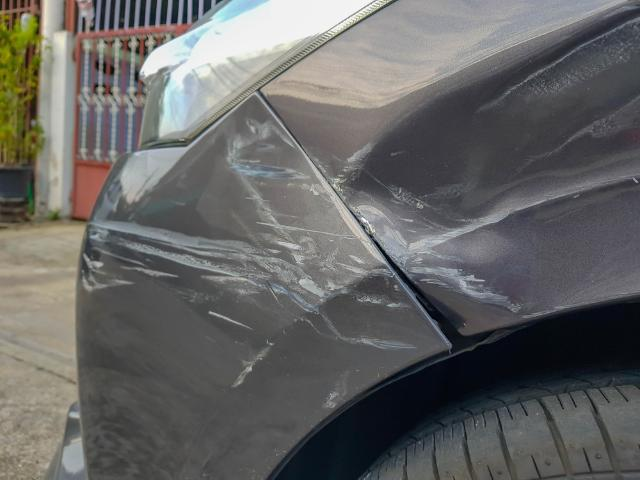dent: (344, 3, 640, 317)
scratch: (74, 110, 421, 409)
